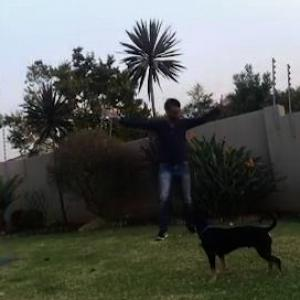takeoff: (99, 97, 227, 229)
